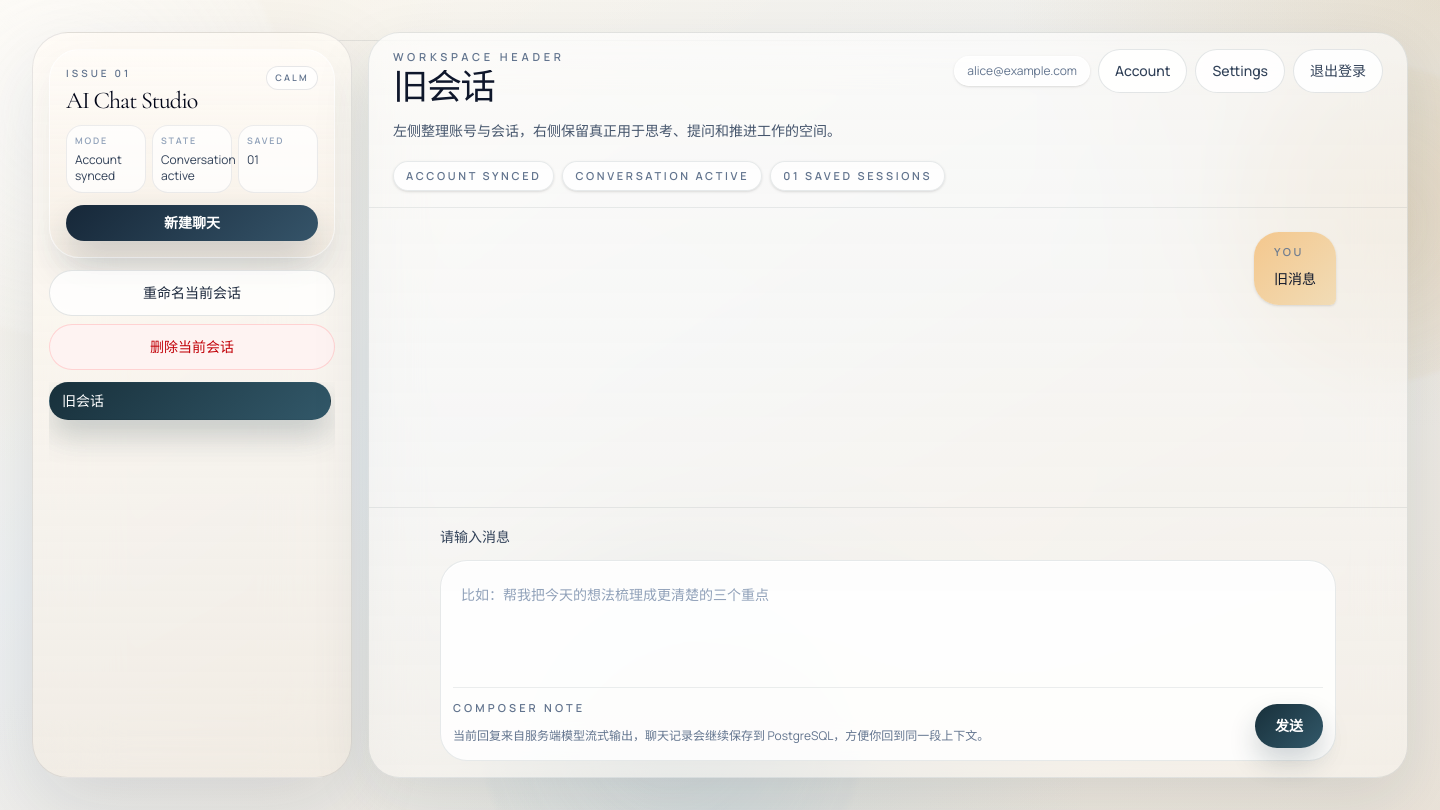
ChatApp › starts a fresh chat when clicking the new chat button
Expected: the text "旧消息" is shown, x1=1274 y1=265 x2=1316 y2=293
Click the button "新建聊天": (192, 222) x1=66 y1=204 x2=318 y2=240
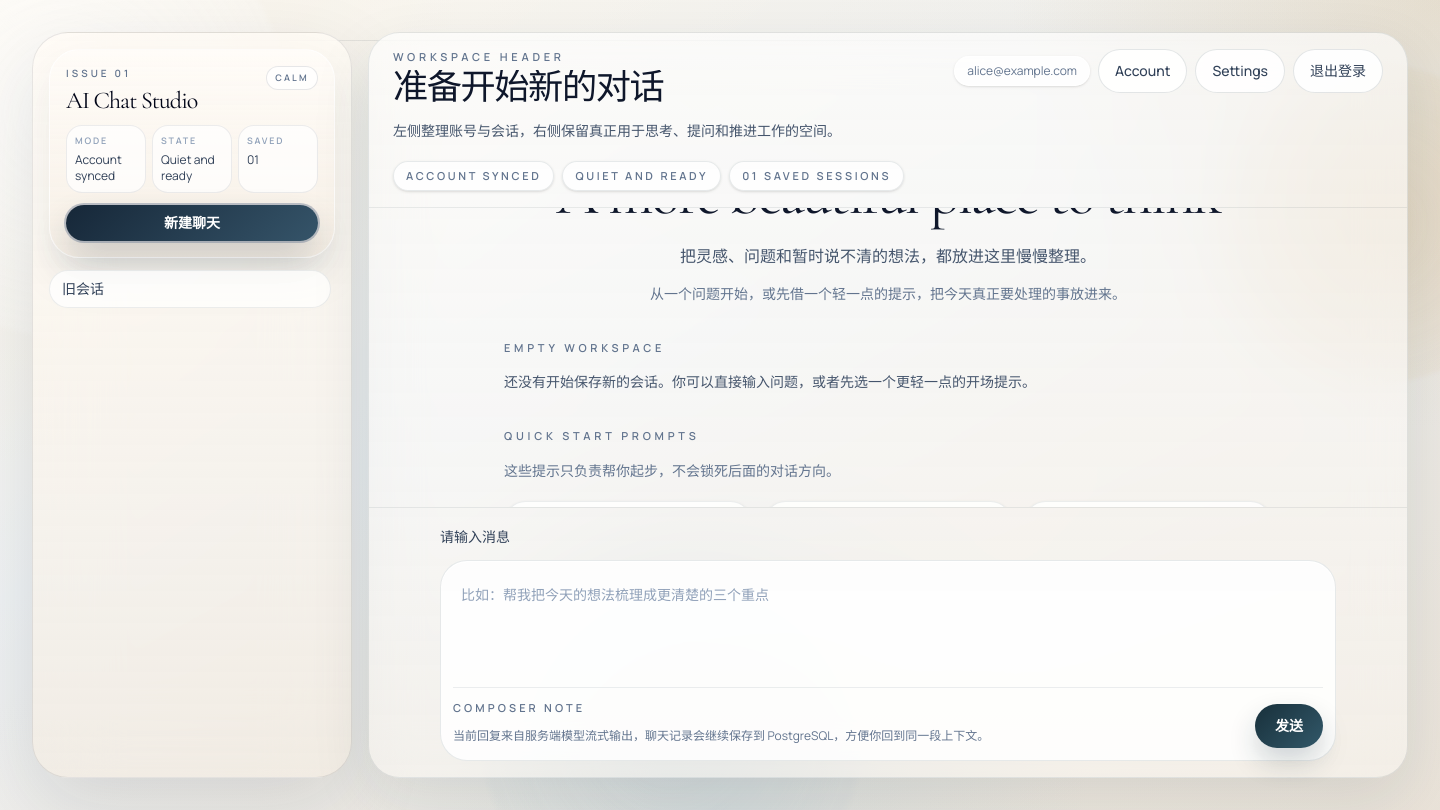
Now the text "旧消息" is gone
